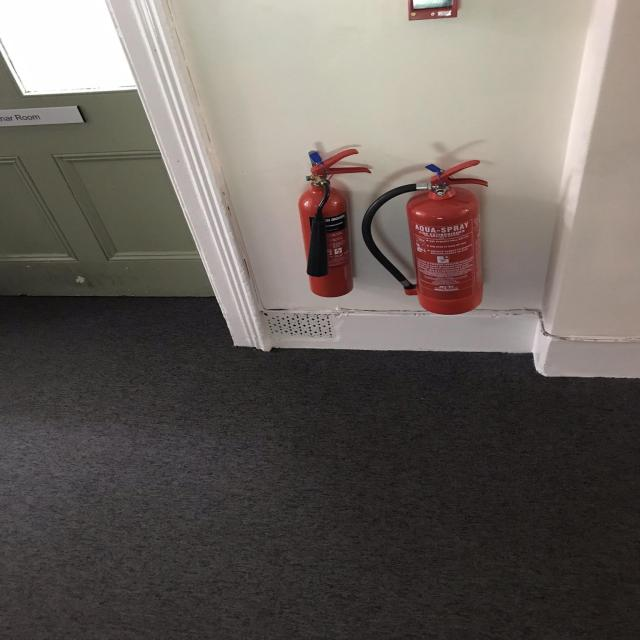fire_extinguisher: (359, 159, 495, 316), (295, 147, 377, 301)
